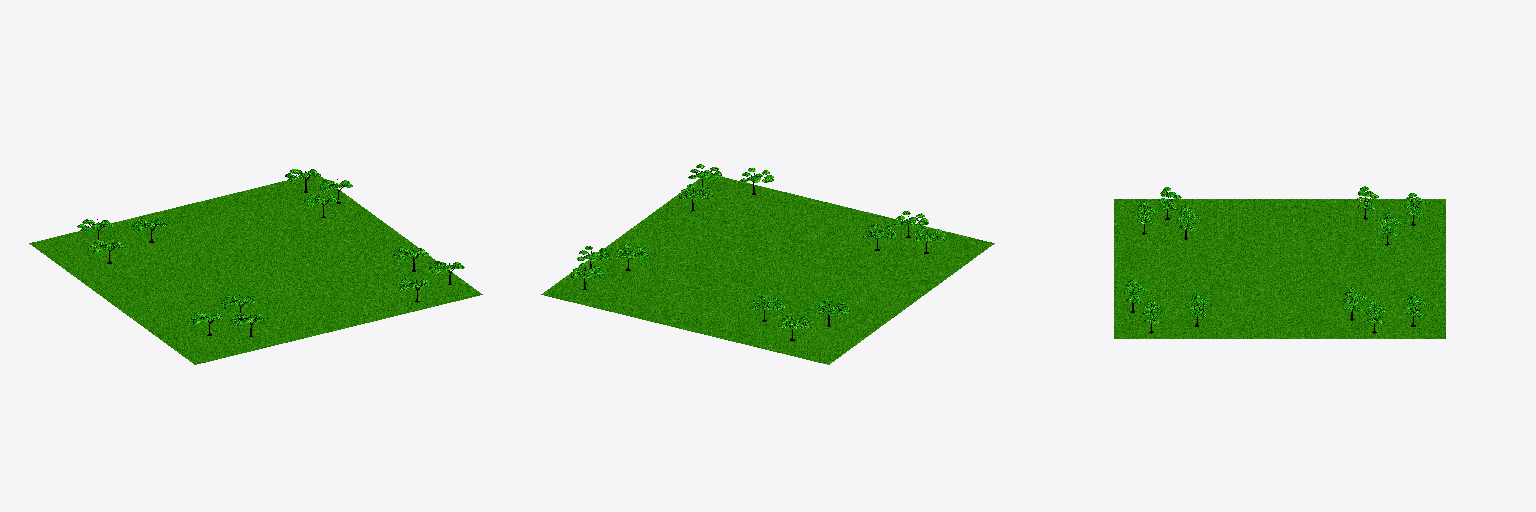
The picture shows the model from 3 angles: view 1: azimuth 30°, elevation 25°; view 2: azimuth 150°, elevation 25°; view 3: azimuth 270°, elevation 25°; orthographic projection.
Size of the model in its own units: 100 by 8.71 by 100.
3 materials, 2 textured.